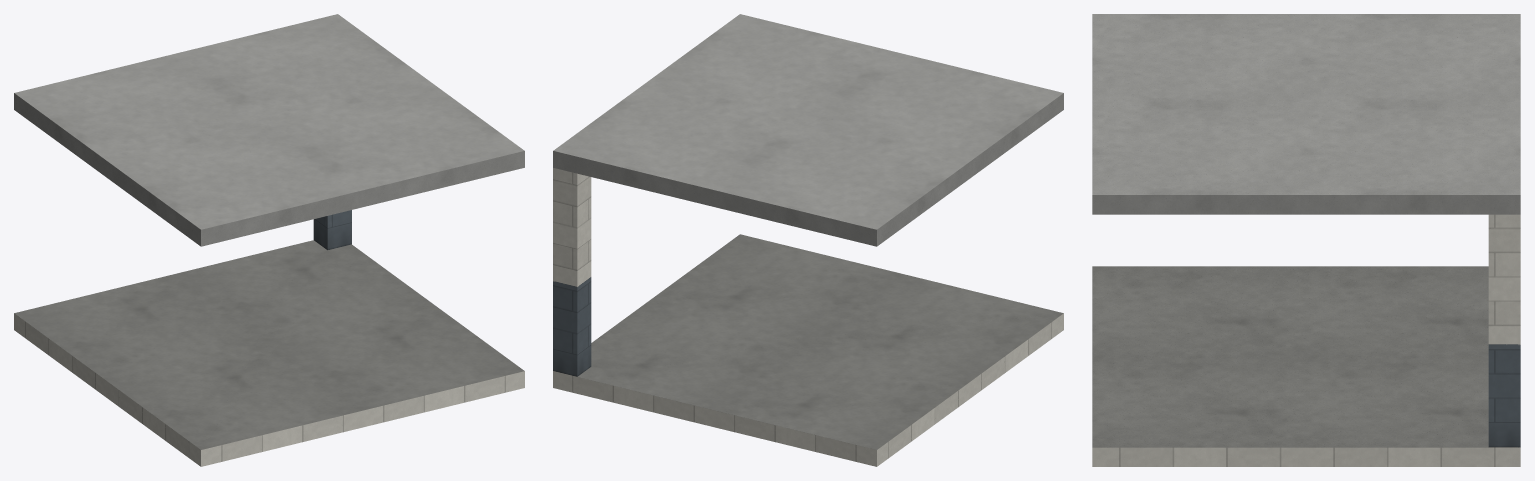
File: Room_Basement_Pillar_NoLight.glb
The picture shows the model from 3 angles, left to right: view 1: azimuth 30°, elevation 25°; view 2: azimuth 150°, elevation 25°; view 3: azimuth 270°, elevation 25°; orthographic projection. The views are drawn at different scales.
Visible parts, largest first — view 1: Room_Basement_Pillar_NoLight, Room_Basement_Pillar_NoLight_Ceiling; view 2: Room_Basement_Pillar_NoLight, Room_Basement_Pillar_NoLight_Ceiling; view 3: Room_Basement_Pillar_NoLight, Room_Basement_Pillar_NoLight_Ceiling.
Part boxes in pixels (x1,y1,x2,y2): Room_Basement_Pillar_NoLight: (14,210,524,466); Room_Basement_Pillar_NoLight_Ceiling: (14,14,524,246); Room_Basement_Pillar_NoLight: (553,168,1063,466); Room_Basement_Pillar_NoLight_Ceiling: (553,14,1063,246); Room_Basement_Pillar_NoLight: (1092,214,1520,466); Room_Basement_Pillar_NoLight_Ceiling: (1092,14,1520,214).
Size of the model in its own units: 4 by 2.8 by 4.
Materials: 3 (3 with a texture image).
